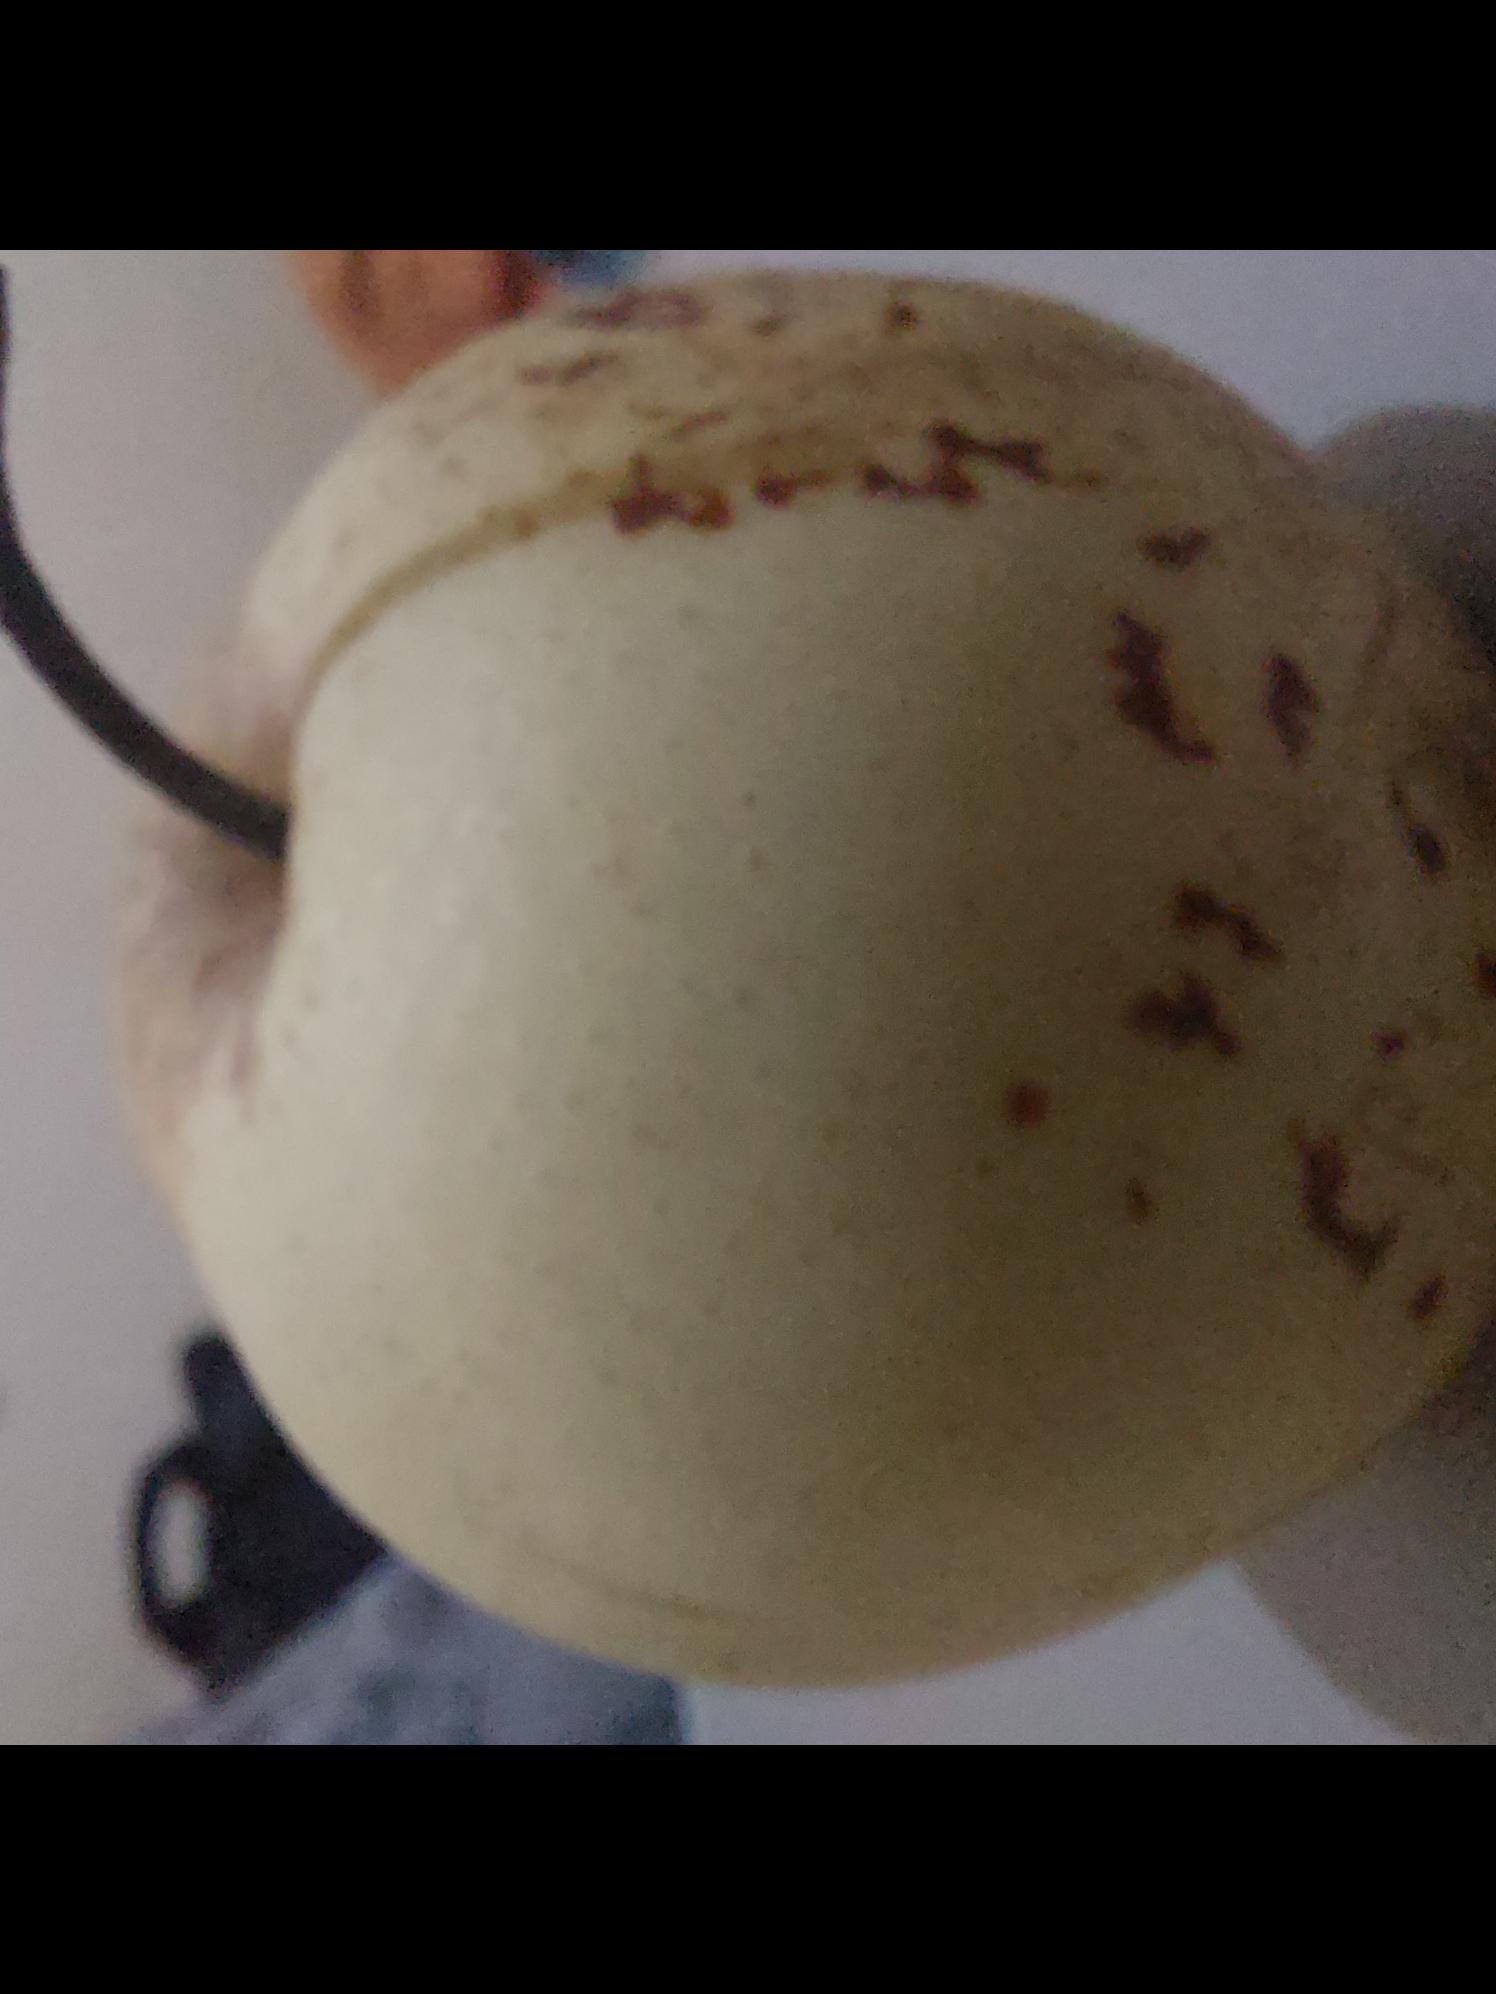Bad Pear: (284, 360, 1496, 1574)
